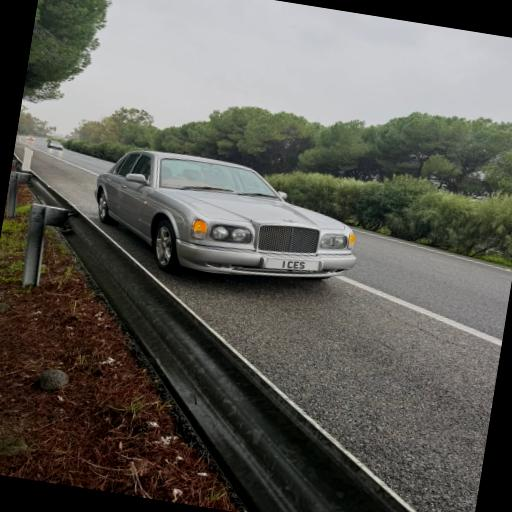numberplates: (265, 258, 320, 271)
